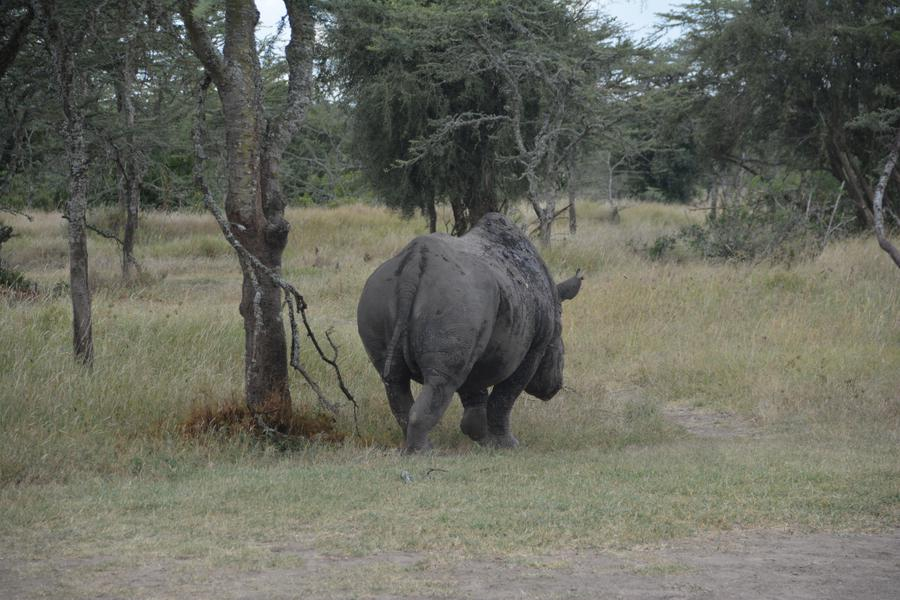rhino: (372, 208, 579, 402)
